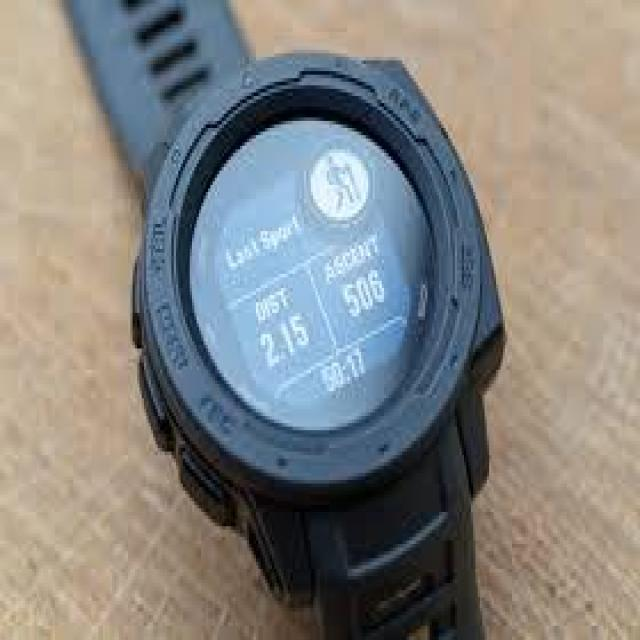watch: (77, 22, 539, 563)
